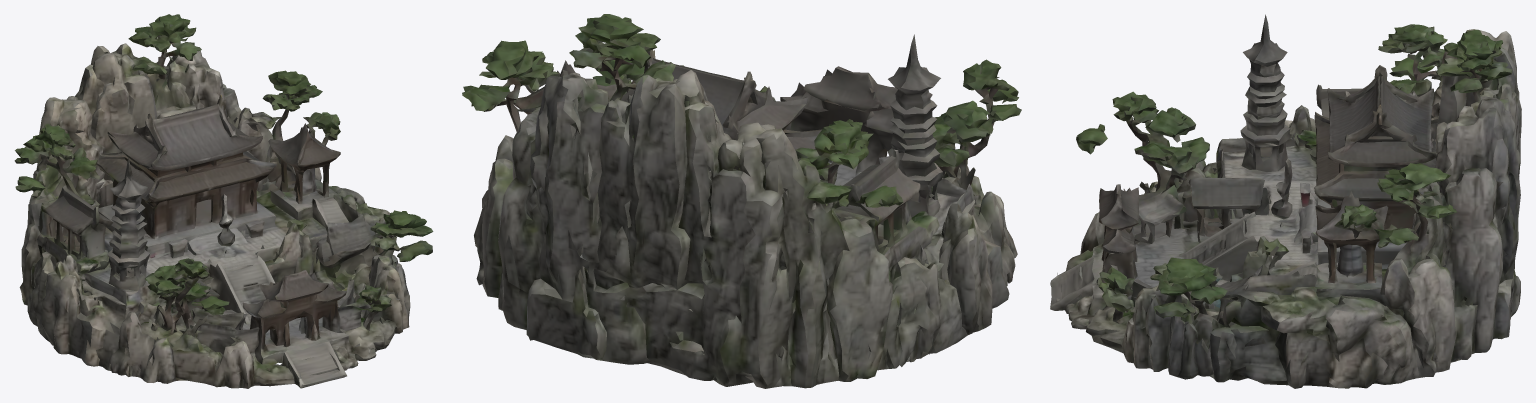
File: temple_blender.glb
3 renders of one model, left to right at view 1: azimuth 30°, elevation 25°; view 2: azimuth 150°, elevation 25°; view 3: azimuth 270°, elevation 25°, orthographic. The views are drawn at different scales.
Visible parts, largest first — view 1: geometry_0; view 2: geometry_0; view 3: geometry_0.
Part boxes in pixels (x1,y1,x2,y2): geometry_0: (14,14,433,388); geometry_0: (462,14,1021,388); geometry_0: (1050,14,1521,388).
Size of the model in its own units: 0.35 by 0.2331 by 0.3578.
Materials: 1 (1 with a texture image).
